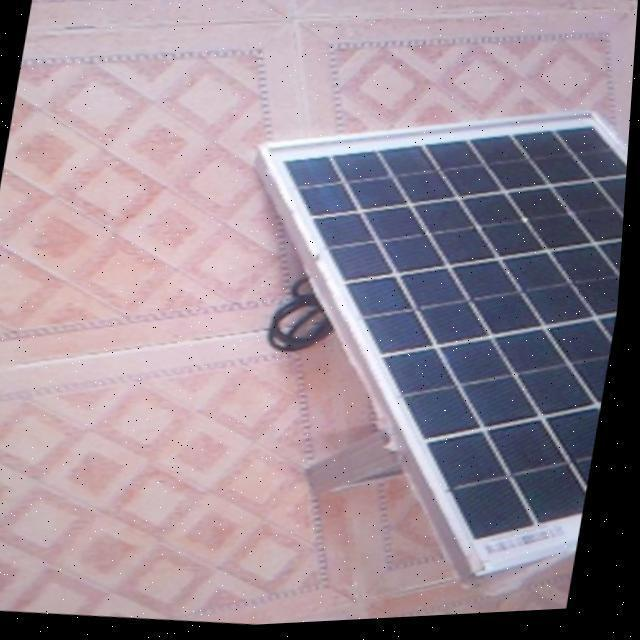Normal Solar Panel: (195, 82, 634, 603)
